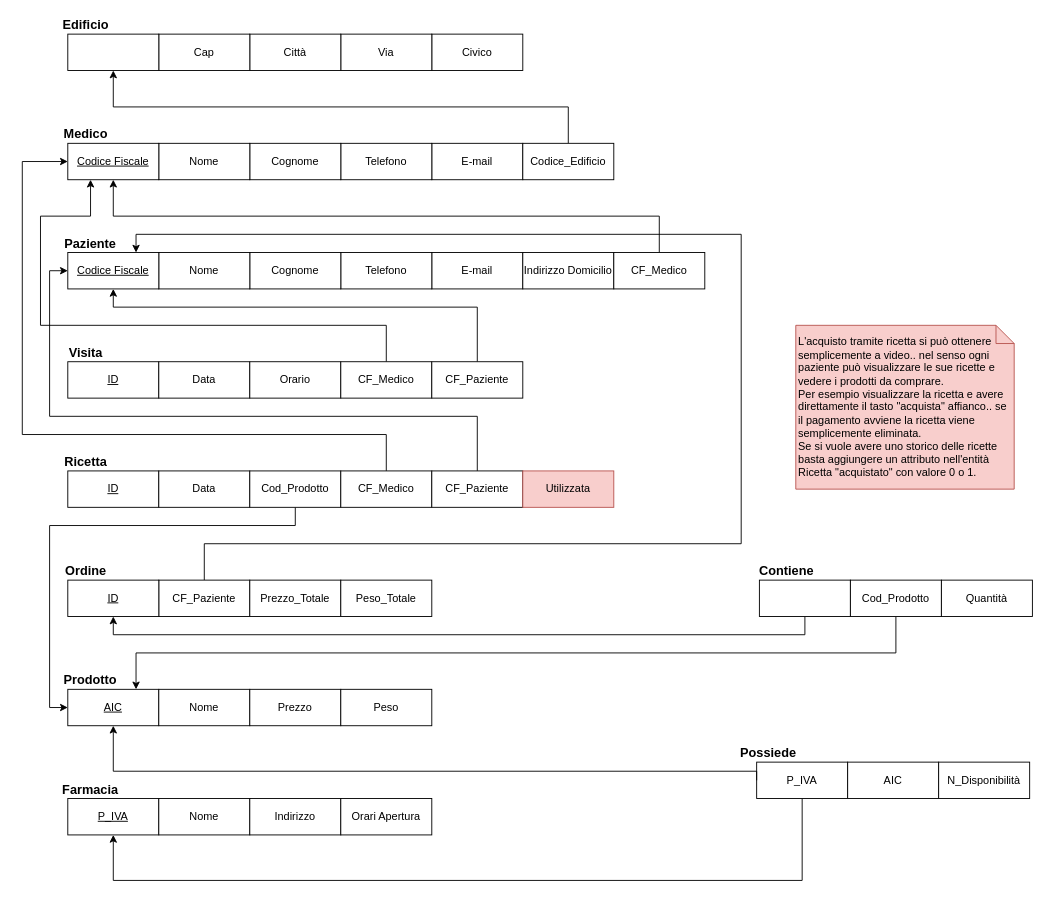
The diagram is 1048 pixels wide and 904 high, and some of its shapes have lost their labels. Each missing label, with the box of its shape:
Codice: (67, 33, 159, 71)
ID_Ordine: (758, 579, 850, 617)
